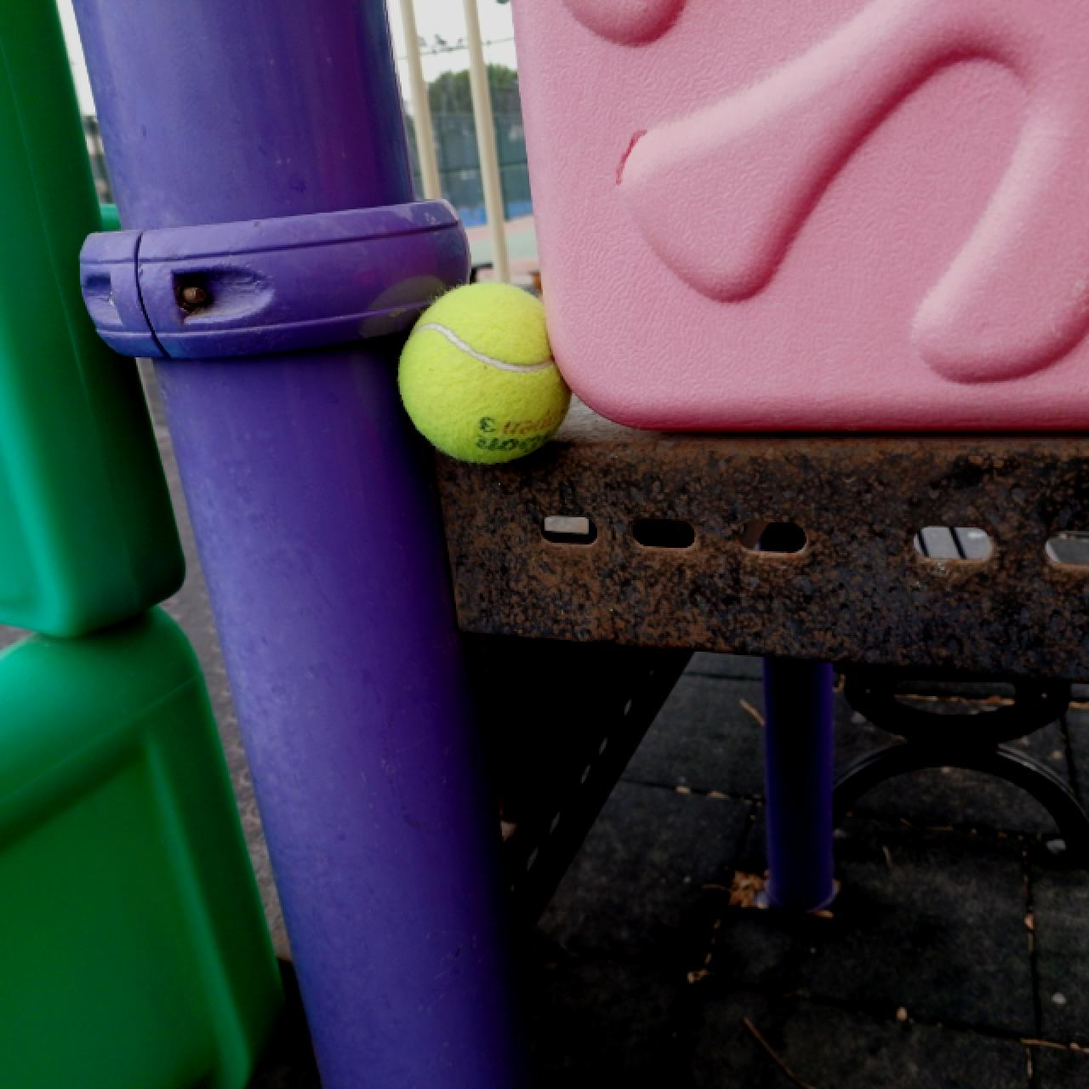tennis-ball: (396, 278, 574, 467)
